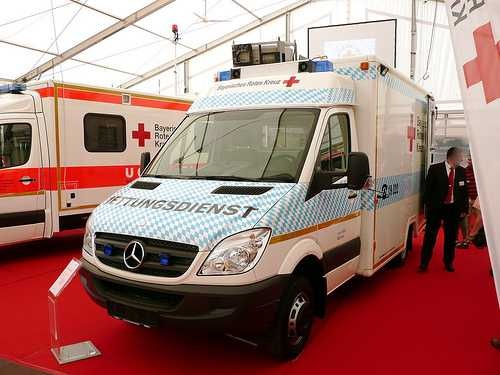Ambulance: (100, 40, 448, 332), (4, 66, 178, 241)
